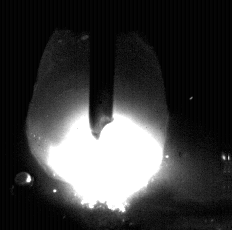arame: (89, 0, 114, 139)
poca: (26, 0, 167, 230)
